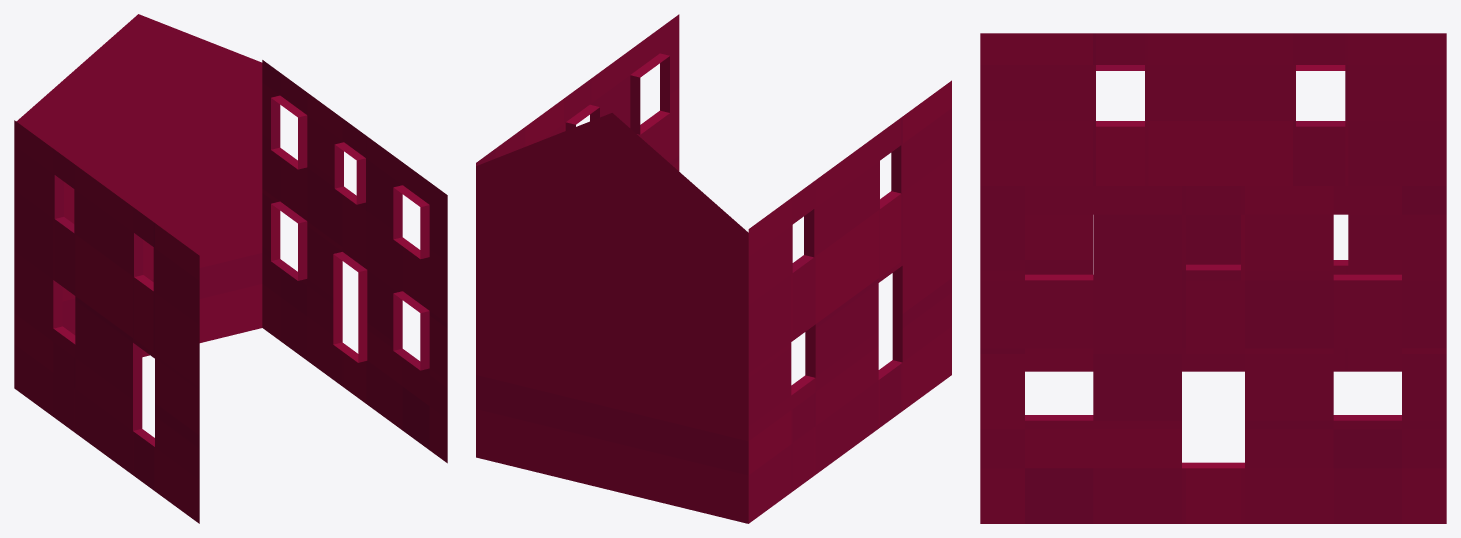
File: SM_Bld_097_Masonry.glb
3 views of the same model, side by side, from view 1: azimuth 30°, elevation 25°; view 2: azimuth 150°, elevation 25°; view 3: azimuth 270°, elevation 25° (orthographic). The views are drawn at different scales.
Parts seen in each view (by area): view 1: SM_Bld_097_Masonry; view 2: SM_Bld_097_Masonry; view 3: SM_Bld_097_Masonry.
Boxes of the visible parts, x1=… form: SM_Bld_097_Masonry: x1=14, y1=14, x2=447, y2=523; SM_Bld_097_Masonry: x1=476, y1=14, x2=951, y2=523; SM_Bld_097_Masonry: x1=980, y1=33, x2=1446, y2=523.
Bounding box in the file's own units: 5.87 × 7.79 × 7.59.
